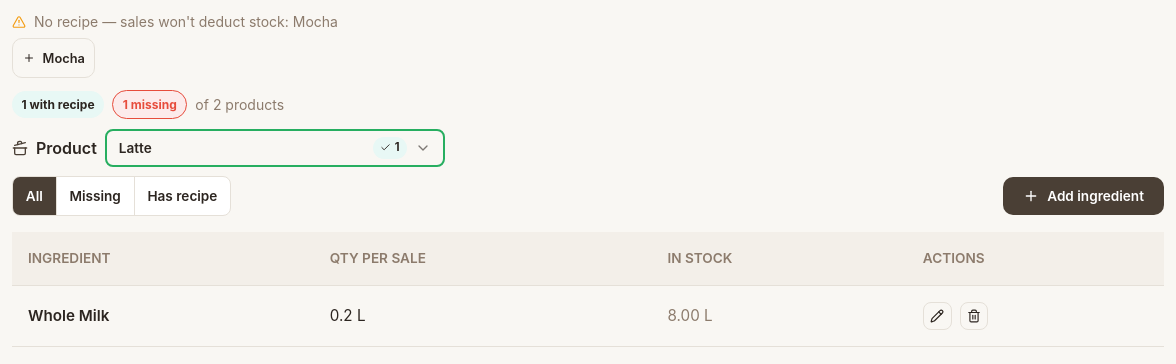
RecipeManager › should jump to a missing-recipe product via quick button
The width and height of the screenshot is (1176, 364).
Click the button with test id "recipe-jump-p2": coordinates (54, 58) [12,38,95,78]
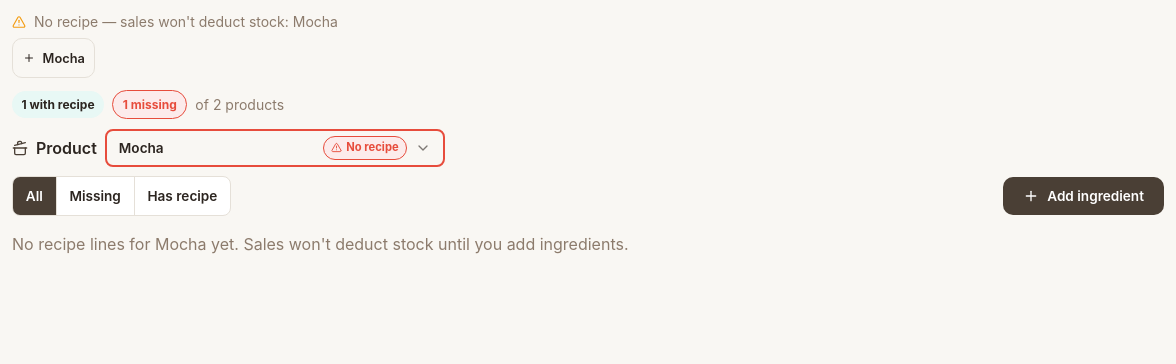
Expected: the text with test id "recipe-empty" shows "Mocha", [155,234,206,254]
